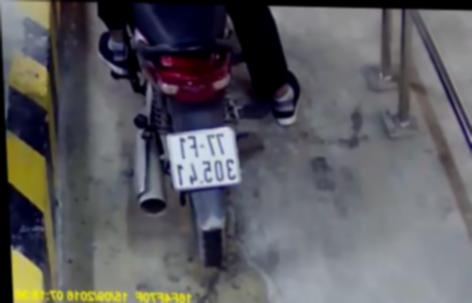License_Plate: (162, 120, 247, 194)
